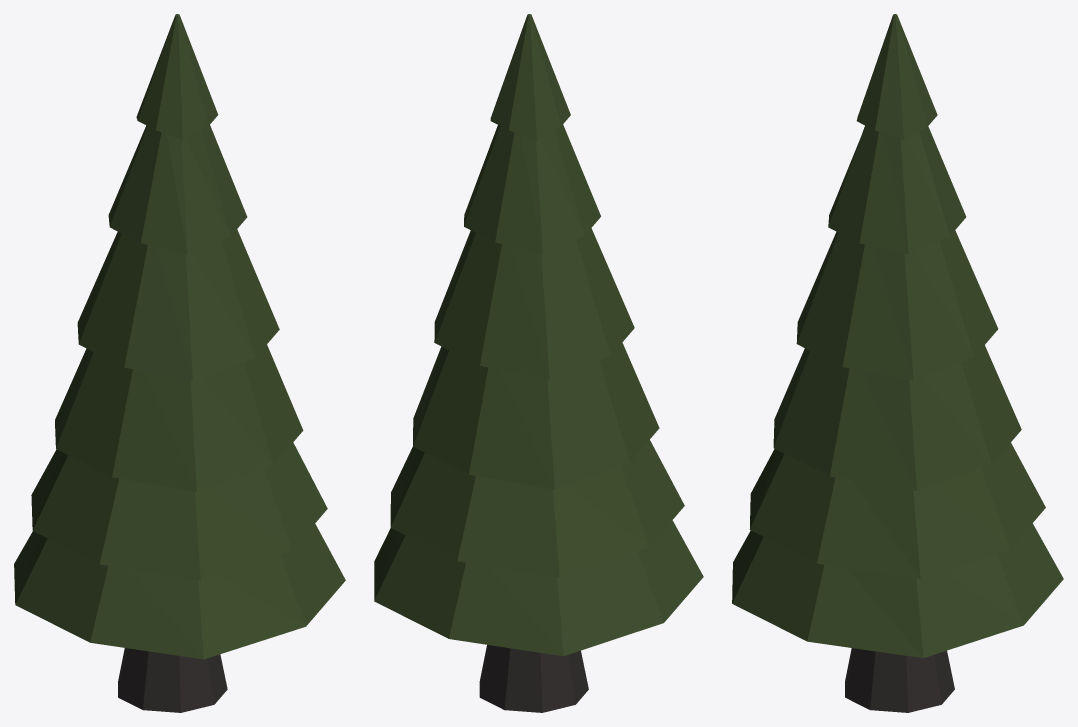
Rendered from Fit.fbx.
3 views of the same model, side by side, from view 1: azimuth 30°, elevation 25°; view 2: azimuth 150°, elevation 25°; view 3: azimuth 270°, elevation 25° (orthographic).
Visible parts, largest first — view 1: Fir, Stump; view 2: Fir, Stump; view 3: Fir, Stump.
Part boxes in pixels (x1,y1,x2,y2): Fir: [14, 14, 345, 659]; Stump: [118, 648, 227, 712]; Fir: [374, 14, 703, 656]; Stump: [479, 645, 588, 712]; Fir: [732, 14, 1063, 658]; Stump: [845, 648, 954, 712].
Bounding box in the file's own units: 109 × 242 × 107.
